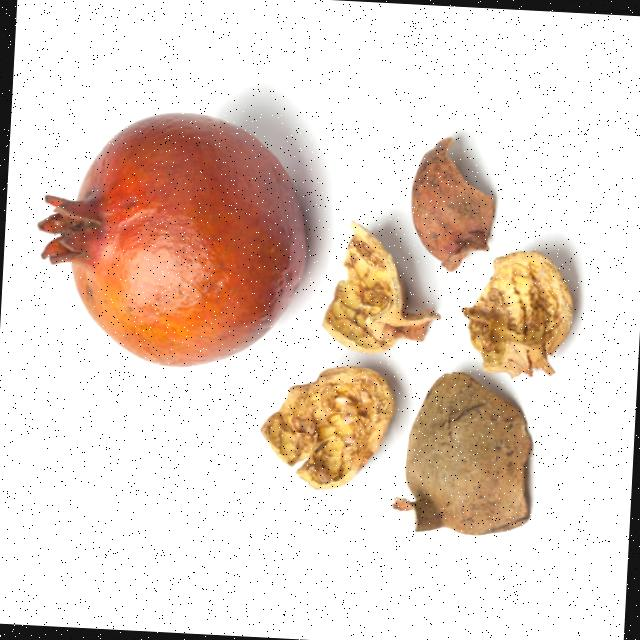overripe: (27, 102, 317, 379)
